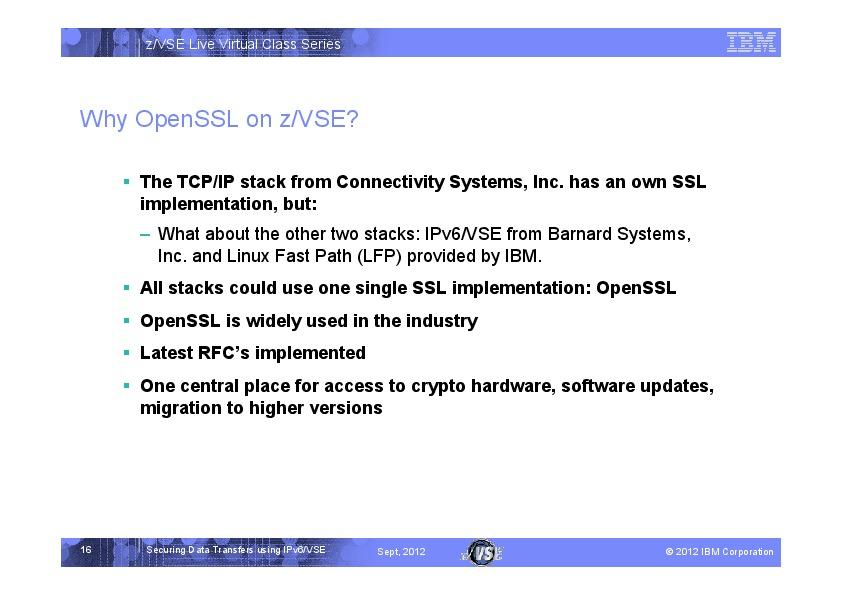paragraph: (103, 157, 759, 453)
subtitle: (77, 94, 369, 142)
title: (140, 28, 357, 59)
